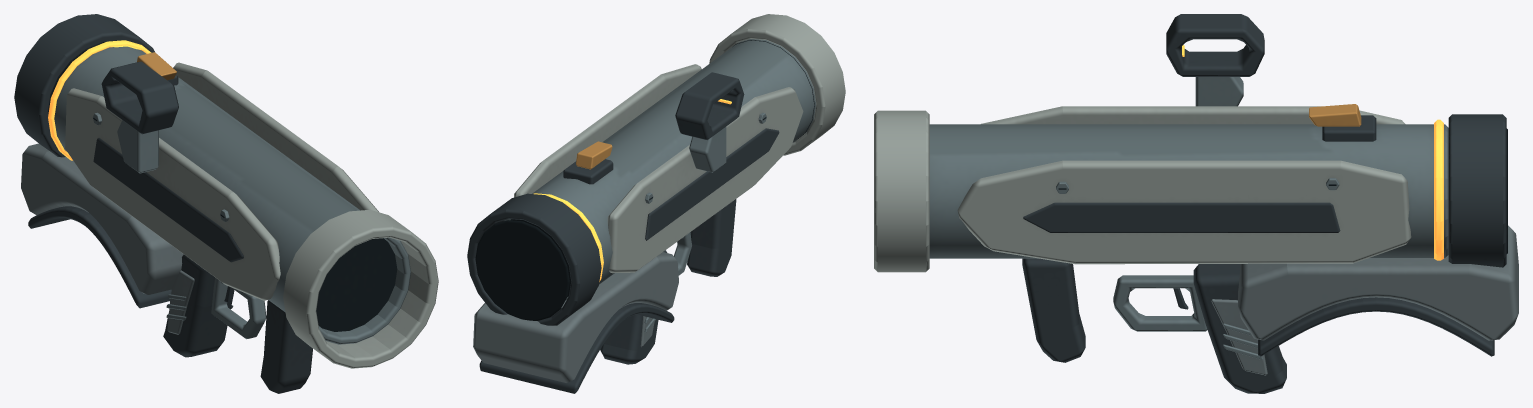
The model's file is rocket.glb.
3 renders of one model, left to right at view 1: azimuth 30°, elevation 25°; view 2: azimuth 150°, elevation 25°; view 3: azimuth 270°, elevation 25°, orthographic. The views are drawn at different scales.
Visible parts, largest first — view 1: rocket-ka12-arsenal; view 2: rocket-ka12-arsenal; view 3: rocket-ka12-arsenal.
Boxes of the visible parts, <box> form: rocket-ka12-arsenal: <box>14,14,438,393</box>; rocket-ka12-arsenal: <box>467,14,845,393</box>; rocket-ka12-arsenal: <box>874,14,1518,393</box>.
Size of the model in its own units: 0.461 by 0.8727 by 1.55.
Materials: 1 (1 with a texture image).
